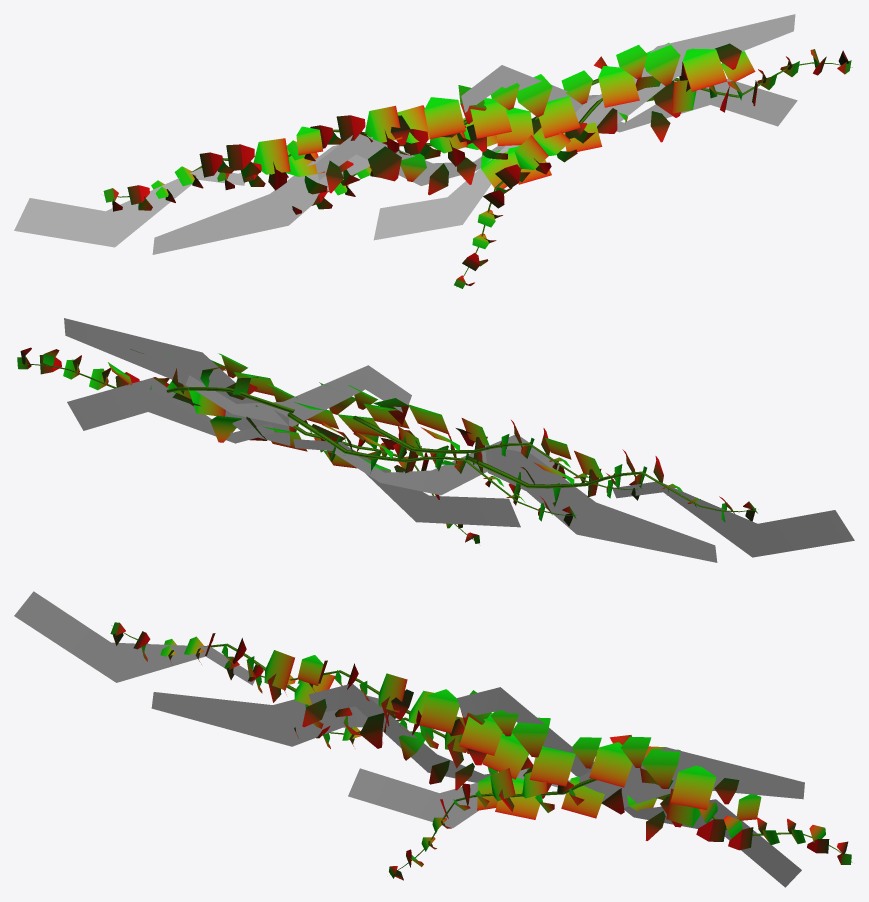
The model's file is Var8_LOD2.fbx.
The picture shows the model from 3 angles, top to bottom: view 1: azimuth 30°, elevation 25°; view 2: azimuth 150°, elevation 25°; view 3: azimuth 330°, elevation 25°; orthographic projection.
Visible parts, largest first — view 1: _6a58_Var8_LOD2; view 2: _6a58_Var8_LOD2; view 3: _6a58_Var8_LOD2.
Boxes of the visible parts, x1,y1,x2,y2 form: _6a58_Var8_LOD2: (14, 14, 852, 288); _6a58_Var8_LOD2: (17, 318, 854, 562); _6a58_Var8_LOD2: (14, 591, 852, 887).
Size of the model in its own units: 132 by 27.61 by 14.73.
